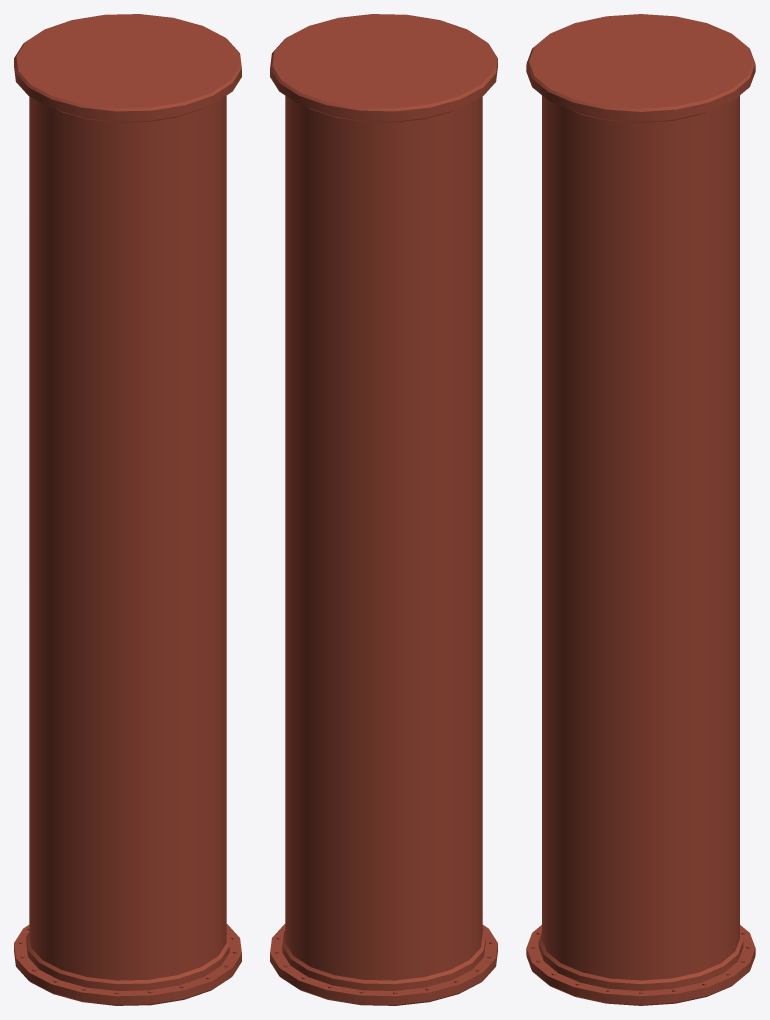
File: Pipe_small_5m.fbx
3 views of the same model, side by side, from view 1: azimuth 30°, elevation 25°; view 2: azimuth 150°, elevation 25°; view 3: azimuth 270°, elevation 25° (orthographic).
Parts seen in each view (by area): view 1: Pipe_small_5m; view 2: Pipe_small_5m; view 3: Pipe_small_5m.
Boxes of the visible parts, box(x1,y1,x2,y2) form: Pipe_small_5m: box(14, 14, 241, 1005); Pipe_small_5m: box(270, 14, 497, 1005); Pipe_small_5m: box(526, 14, 755, 1005).
Bounding box in the file's own units: 0.2892 × 1.25 × 0.2892.
